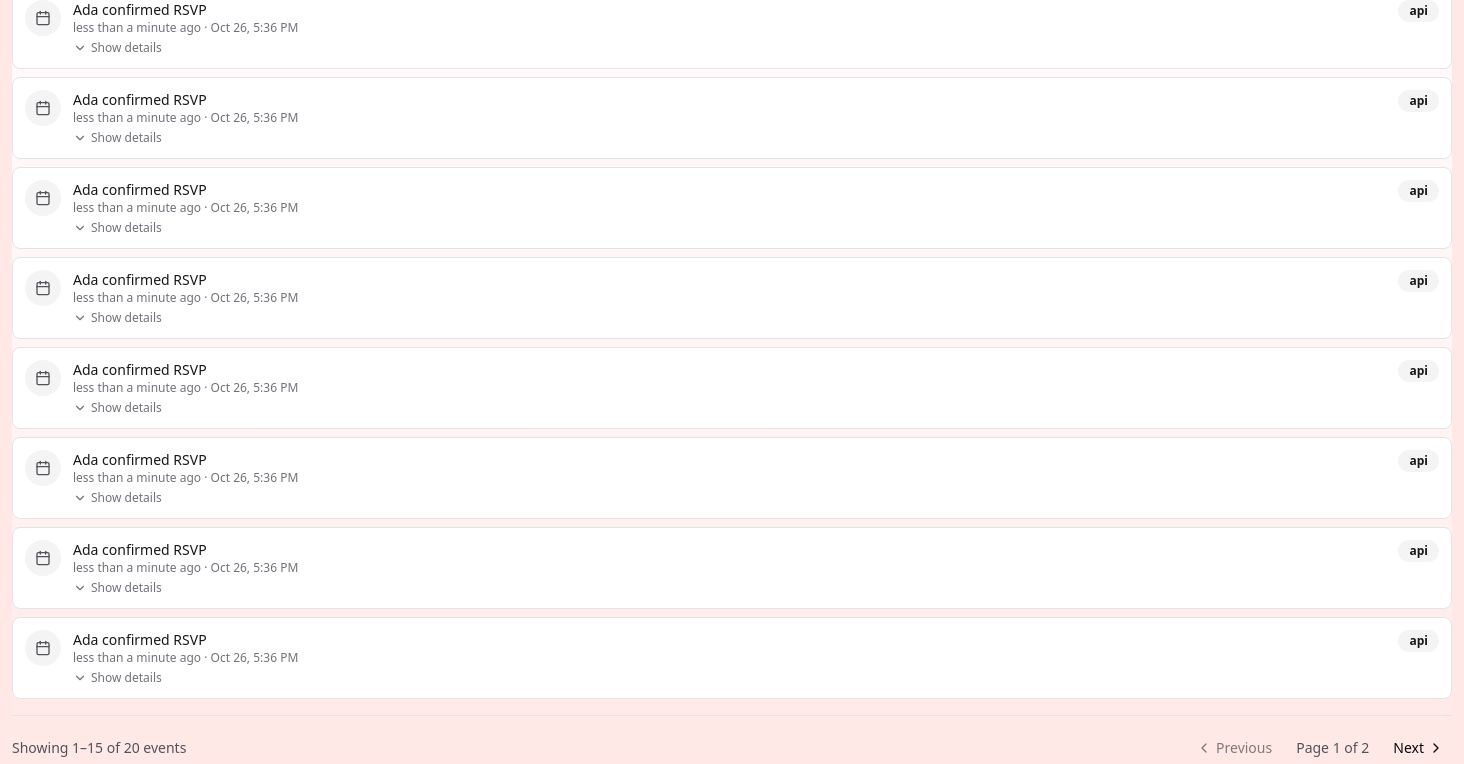
Scenario: AuditEventLog › loads the next page with the stored cursor
The width and height of the screenshot is (1464, 764).
(page scrolled)
Check: the text "Page 1 of 2" is shown, box x1=1296 y1=738 x2=1369 y2=757
Click the button "Next" at [1417, 748], box x1=1381 y1=732 x2=1452 y2=763
(page scrolled)
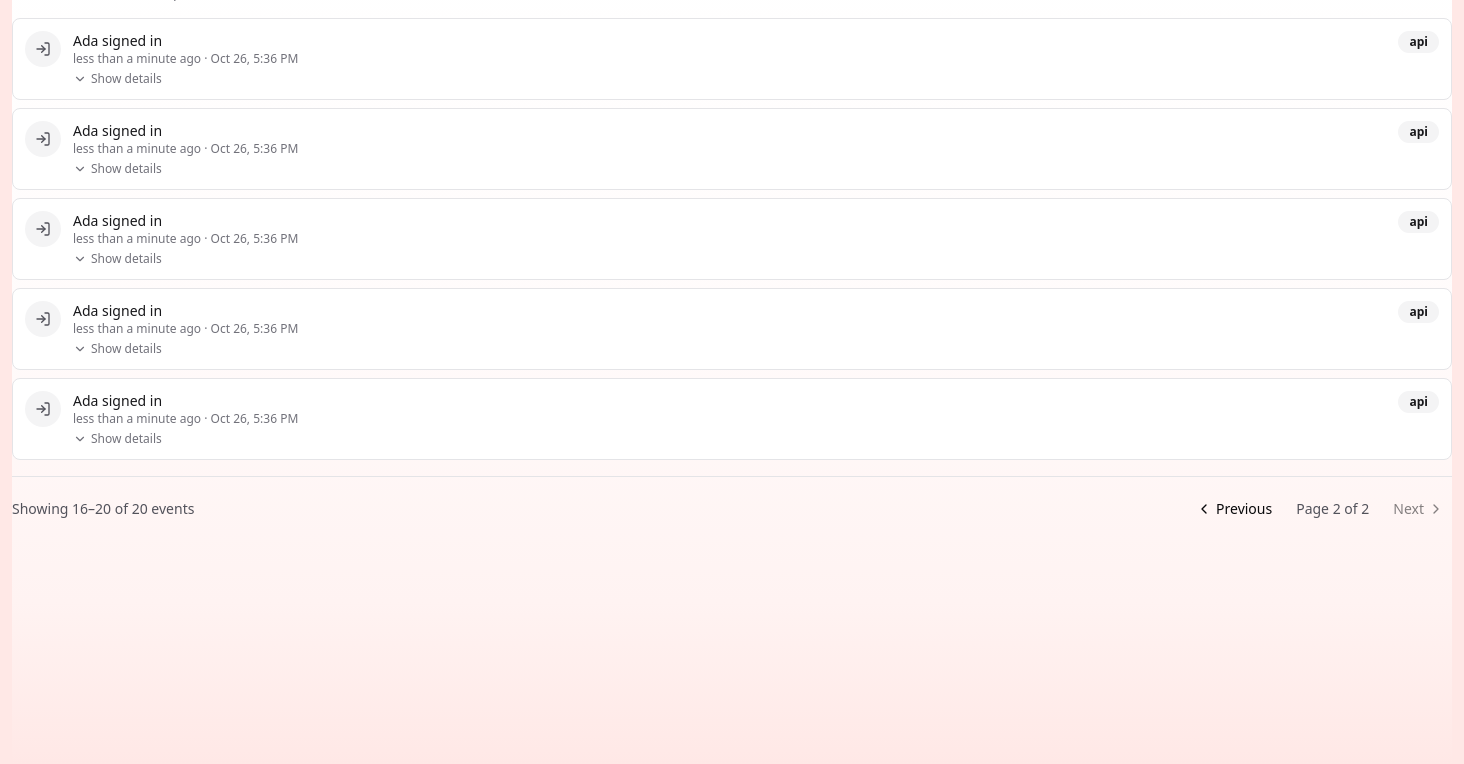
Check: the text "Page 2 of 2" is shown, box x1=1296 y1=499 x2=1369 y2=518
Check: the text "Showing 16–20 of 20 events" is shown, box x1=12 y1=499 x2=194 y2=519
Check: the text "Ada signed in" is shown 5 times, box x1=73 y1=31 x2=162 y2=50; x1=73 y1=121 x2=162 y2=140; x1=73 y1=211 x2=162 y2=230; x1=73 y1=301 x2=162 y2=320; x1=73 y1=391 x2=162 y2=410
